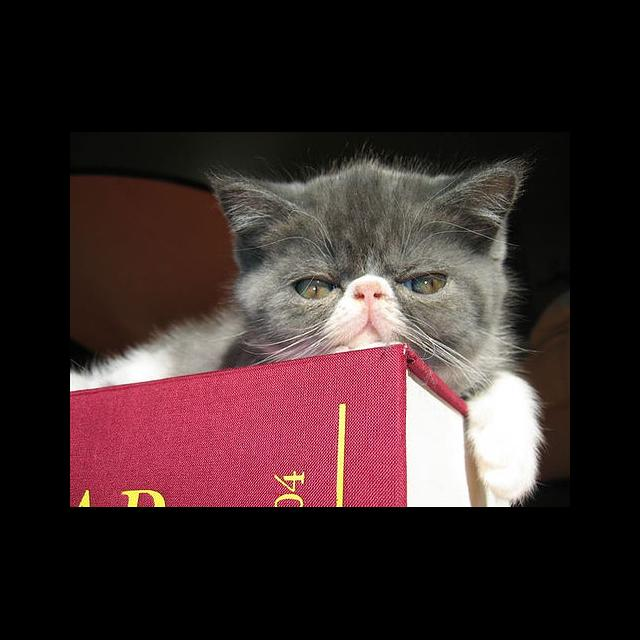animals: (212, 174, 511, 306)
